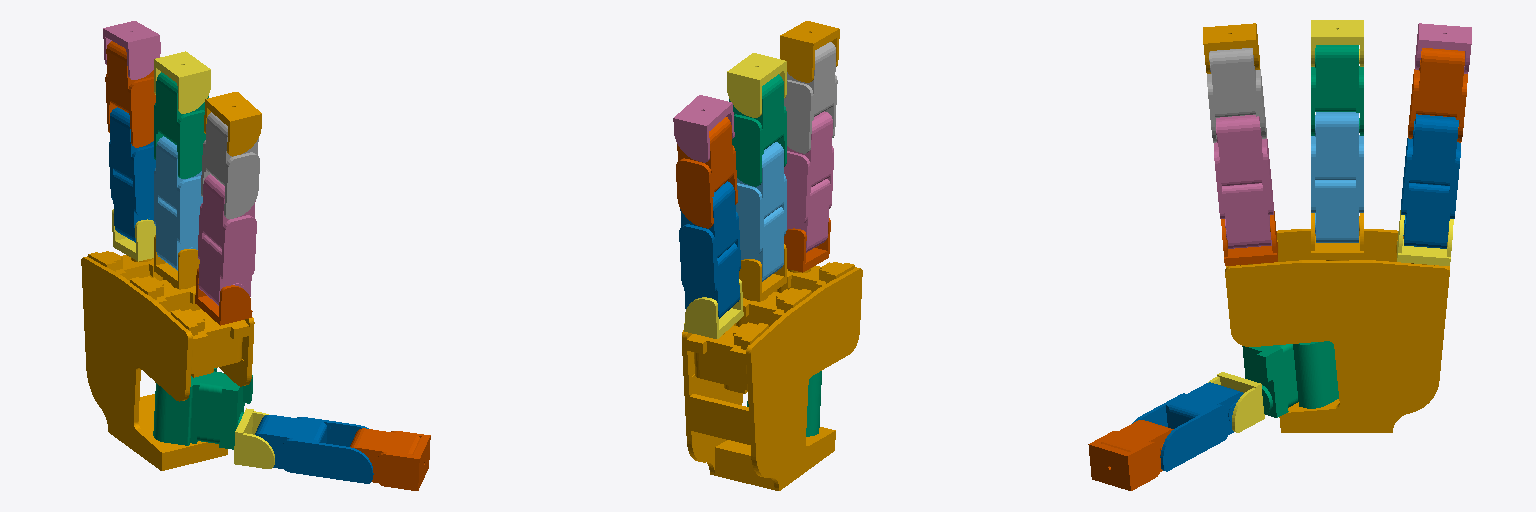
robot.urdf — allegro_left:
<?xml version="1.0" encoding="utf-8"?>
<robot name="allegro_left">
  <link name="base_link">
    <inertial>
      <mass value="0.4154"/>
      <origin rpy="0 0 0" xyz="0 0 0"/>
      <inertia ixx="1e-4" ixy="0" ixz="0" iyy="1e-4" iyz="0" izz="1e-4"/>
    </inertial>
    <visual>
      <geometry>
        <mesh filename="meshes/visual/base_link_left.obj"/>
      </geometry>
      <origin rpy="-1.570795 0 0" xyz="0 0 0 "/>
    </visual>
    <collision>
      <origin rpy="0 0 0" xyz="-0.009 0.0 -0.023"/>
      <geometry>
        <box size="0.0414 0.112 0.0448"/>
      </geometry>
    </collision>
    <collision>
      <origin rpy="0 0 0" xyz="-0.009 0.0253 -0.0667"/>
      <geometry>
        <box size="0.0414 0.0538 0.0428"/>
      </geometry>
    </collision>
    <collision>
      <origin rpy="0 0 0" xyz="-0.009300 0.00557 -0.08874"/>
      <geometry>
        <box size="0.0414 0.0720 0.013"/>
      </geometry>
    </collision>
  </link> <!--  virtual link-->
  <link name="palm"/>
  <joint name="palm_joint" type="fixed">
    <parent link="base_link"/>
    <child link="palm"/>
    <origin rpy="0.00000 -0.00000 0.00000" xyz="0 0 -0.065"/>
  </joint> <!--  virtual link-->
  <link name="wrist"/>
  <joint name="wrist_joint" type="fixed">
    <origin rpy="0 0 0" xyz="0 0 -0.03"/>
    <parent link="palm"/>
    <child link="wrist"/>
  </joint>
  <link name="link_0.0">
    <visual>
      <geometry>
        <mesh filename="meshes/visual/link_0.0.obj"/>
      </geometry>
    </visual>
    <collision>
      <geometry>
        <box size="0.0196 0.0275 0.0164"/>
      </geometry>
      <origin rpy="0 0 0" xyz="0 0 0.0082"/>
    </collision>
    <inertial>
      <mass value="0.0119"/>
      <origin xyz="0 0 0" rpy="0 0 0"/>
      <inertia ixx="1.01666658333e-06" ixy="0.0" ixz="0.0" iyy="6.47677333333e-07" iyz="0.0" izz="1.01666658333e-06"/>
    </inertial>
  </link>
  <joint name="joint_0.0" type="revolute">
    <axis xyz="0 0 1"/>
    <limit effort="10" lower="-0.47" upper="0.47" velocity="3.14"/>
    <parent link="base_link"/>
    <child link="link_0.0"/>
    <origin rpy="-0.08726646255 0 0" xyz="0 0.0435 -0.001542"/>
  </joint>
  <link name="link_1.0">
    <inertial>
      <mass value="0.065"/>
      <origin xyz="0 0 0" rpy="0 0 0"/>
      <inertia ixx="7.95654166667e-05" ixy="1.7199e-05" ixz="8.75875e-06" iyy="2.47088833333e-05" iyz="2.413125e-05" izz="7.95654166667e-05"/>
    </inertial>
    <visual>
      <geometry>
        <mesh filename="meshes/visual/link_1.0.obj"/>
      </geometry>
    </visual>
    <collision>
      <geometry>
        <box size="0.0196 0.0275 0.054"/>
      </geometry>
      <origin rpy="0 0 0" xyz="0 0 0.027"/>
    </collision>
  </link>
  <joint name="joint_1.0" type="revolute">
    <limit effort="10" lower="-0.196" upper="1.61" velocity="3.14"/>
    <axis xyz="0 1 0"/>
    <parent link="link_0.0"/>
    <child link="link_1.0"/>
    <origin xyz="0 0 0.0164"/>
  </joint>
  <link name="link_2.0">
    <inertial>
      <mass value="0.0355"/>
      <origin xyz="0 0 0" rpy="0 0 0"/>
      <inertia ixx="2.63979183333e-05" ixy="6.67968e-06" ixz="4.783625e-06" iyy="1.34948516667e-05" iyz="9.372e-06" izz="2.63979183333e-05"/>
    </inertial>
    <visual>
      <geometry>
        <mesh filename="meshes/visual/link_2.0.obj"/>
      </geometry>
    </visual>
    <collision>
      <geometry>
        <box size="0.0196 0.0275 0.0384"/>
      </geometry>
      <origin rpy="0 0 0" xyz="0 0 0.0192"/>
    </collision>
  </link>
  <joint name="joint_2.0" type="revolute">
    <axis xyz="0 1 0"/>
    <limit effort="10" lower="-0.174" upper="1.709" velocity="3.14"/>
    <parent link="link_1.0"/>
    <child link="link_2.0"/>
    <origin xyz="0 0 0.054"/>
  </joint>
  <link name="link_3.0">
    <visual>
      <geometry>
        <mesh filename="meshes/visual/link_3.0.obj"/>
      </geometry>
    </visual>
    <collision>
      <geometry>
        <box size="0.0196 0.0269 0.022"/>
      </geometry>
      <origin rpy="0 0 0" xyz="0 0 0.0047"/>
    </collision>
    <inertial>
      <origin rpy="0 0 0" xyz="0 0 0.01335"/>
      <mass value="0.02"/>
      <inertia ixx="1e-5" ixy="0.0" ixz="0.0" iyy="2e-5" iyz="0.0" izz="2e-5"/>
    </inertial>
  </link>
  <joint name="joint_3.0" type="revolute">
    <axis xyz="0 1 0"/>
    <limit effort="10" lower="-0.227" upper="1.618" velocity="3.14"/>
    <parent link="link_2.0"/>
    <child link="link_3.0"/>
    <origin xyz="0 0 0.0384"/>
  </joint>
  <link name="link_3.0_tip">
    <inertial>
      <mass value="0.0168"/>
      <origin xyz="0 0 0" rpy="0 0 0"/>
      <inertia ixx="9.68e-07" ixy="0" ixz="0" iyy="9.68e-07" iyz="0" izz="9.68e-07"/>
    </inertial>
    <visual>
      <geometry>
        <mesh filename="meshes/visual/link_tip.obj"/>
      </geometry>
    </visual>
    <collision>
      <geometry>
        <mesh filename="meshes/collision/link_tip.obj"/>
      </geometry>
    </collision>
  </link>
  <joint name="joint_3.0_tip" type="fixed">
    <parent link="link_3.0"/>
    <child link="link_3.0_tip"/>
    <origin rpy="0 0 0" xyz="0 0 0.0267"/>
  </joint>
  <link name="link_4.0">
    <inertial>
      <mass value="0.005"/>
      <origin xyz="0 0 0"/>
      <inertia ixx="5.1458e-05" iyy="5.1458e-05" izz="6.125e-05" ixy="0" ixz="0" iyz="0"/>
    </inertial>
    <visual>
      <geometry>
        <mesh filename="meshes/visual/link_0.0.obj"/>
      </geometry>
    </visual>
    <collision>
      <geometry>
        <box size="0.0196 0.0275 0.0164"/>
      </geometry>
      <origin rpy="0 0 0" xyz="0 0 0.0082"/>
    </collision>
  </link>
  <joint name="joint_4.0" type="revolute">
    <axis xyz="0 0 1"/>
    <limit effort="10" lower="-0.47" upper="0.47" velocity="3.14"/>
    <parent link="base_link"/>
    <child link="link_4.0"/>
    <origin rpy="0.0 0 0" xyz="0 0 0.0007"/>
  </joint>
  <link name="link_5.0">
    <inertial>
      <mass value="0.065"/>
      <origin xyz="0 0 0" rpy="0 0 0"/>
      <inertia ixx="7.95654166667e-05" ixy="1.7199e-05" ixz="8.75875e-06" iyy="2.47088833333e-05" iyz="2.413125e-05" izz="7.95654166667e-05"/>
    </inertial>
    <visual>
      <geometry>
        <mesh filename="meshes/visual/link_1.0.obj"/>
      </geometry>
    </visual>
    <collision>
      <geometry>
        <box size="0.0196 0.0275 0.054"/>
      </geometry>
      <origin rpy="0 0 0" xyz="0 0 0.027"/>
    </collision>
  </link>
  <joint name="joint_5.0" type="revolute">
    <limit effort="10" lower="-0.196" upper="1.61" velocity="3.14"/>
    <axis xyz="0 1 0"/>
    <parent link="link_4.0"/>
    <child link="link_5.0"/>
    <origin xyz="0 0 0.0164"/>
  </joint>
  <link name="link_6.0">
    <inertial>
      <mass value="0.0355"/>
      <origin xyz="0 0 0" rpy="0 0 0"/>
      <inertia ixx="2.63979183333e-05" ixy="6.67968e-06" ixz="4.783625e-06" iyy="1.34948516667e-05" iyz="9.372e-06" izz="2.63979183333e-05"/>
    </inertial>
    <visual>
      <geometry>
        <mesh filename="meshes/visual/link_2.0.obj"/>
      </geometry>
    </visual>
    <collision>
      <geometry>
        <box size="0.0196 0.0275 0.0384"/>
      </geometry>
      <origin rpy="0 0 0" xyz="0 0 0.0192"/>
    </collision>
  </link>
  <joint name="joint_6.0" type="revolute">
    <axis xyz="0 1 0"/>
    <limit effort="10" lower="-0.174" upper="1.709" velocity="3.14"/>
    <parent link="link_5.0"/>
    <child link="link_6.0"/>
    <origin xyz="0 0 0.054"/>
  </joint>
  <link name="link_7.0">
    <inertial>
      <mass value="0.0388"/>
      <origin xyz="0 0 0" rpy="0 0 0"/>
      <inertia ixx="3.29223173333e-05" ixy="8.042076e-06" ixz="5.2283e-06" iyy="1.47493026667e-5" iyz="1.1283525e-5" izz="3.29223173333e-05"/>
    </inertial>
    <visual>
      <geometry>
        <mesh filename="meshes/visual/link_3.0.obj"/>
      </geometry>
    </visual>
    <collision>
      <geometry>
        <box size="0.0196 0.0269 0.022"/>
      </geometry>
      <origin rpy="0 0 0" xyz="0 0 0.0047"/>
    </collision>
  </link>
  <joint name="joint_7.0" type="revolute">
    <axis xyz="0 1 0"/>
    <limit effort="10" lower="-0.227" upper="1.618" velocity="3.14"/>
    <parent link="link_6.0"/>
    <child link="link_7.0"/>
    <origin xyz="0 0 0.0384"/>
  </joint>
  <link name="link_7.0_tip">
    <inertial>
      <mass value="0.0096"/>
      <origin xyz="0 0 0" rpy="0 0 0"/>
      <inertia ixx="4.701248e-06" ixy="1.255968e-06" ixz="1.2936e-06" iyy="3.649312e-06" iyz="1.7622e-06" izz="4.701248e-06"/>
    </inertial>
    <visual>
      <geometry>
        <mesh filename="meshes/visual/link_tip.obj"/>
      </geometry>
    </visual>
    <collision>
      <geometry>
        <mesh filename="meshes/collision/link_tip.obj"/>
      </geometry>
    </collision>
  </link>
  <joint name="joint_7.0_tip" type="fixed">
    <parent link="link_7.0"/>
    <child link="link_7.0_tip"/>
    <origin rpy="0 0 0" xyz="0 0 0.0267"/>
  </joint>
  <link name="link_8.0">
    <inertial>
      <mass value="0.005"/>
      <origin xyz="0 0 0"/>
      <inertia ixx="5.1458e-05" iyy="5.1458e-05" izz="6.125e-05" ixy="0" ixz="0" iyz="0"/>
    </inertial>
    <visual>
      <geometry>
        <mesh filename="meshes/visual/link_0.0.obj"/>
      </geometry>
    </visual>
    <collision>
      <geometry>
        <box size="0.0196 0.0275 0.0164"/>
      </geometry>
      <origin rpy="0 0 0" xyz="0 0 0.0082"/>
    </collision>
  </link>
  <joint name="joint_8.0" type="revolute">
    <axis xyz="0 0 1"/>
    <limit effort="10" lower="-0.47" upper="0.47" velocity="3.14"/>
    <parent link="base_link"/>
    <child link="link_8.0"/>
    <origin rpy="0.08726646255 0 0" xyz="0 -0.0435 -0.001542"/>
  </joint>
  <link name="link_9.0">
    <inertial>
      <mass value="0.065"/>
      <origin xyz="0 0 0" rpy="0 0 0"/>
      <inertia ixx="7.95654166667e-05" ixy="1.7199e-05" ixz="8.75875e-06" iyy="2.47088833333e-05" iyz="2.413125e-05" izz="7.95654166667e-05"/>
    </inertial>
    <visual>
      <geometry>
        <mesh filename="meshes/visual/link_1.0.obj"/>
      </geometry>
    </visual>
    <collision>
      <geometry>
        <box size="0.0196 0.0275 0.054"/>
      </geometry>
      <origin rpy="0 0 0" xyz="0 0 0.027"/>
    </collision>
  </link>
  <joint name="joint_9.0" type="revolute">
    <limit effort="10" lower="-0.196" upper="1.61" velocity="3.14"/>
    <axis xyz="0 1 0"/>
    <parent link="link_8.0"/>
    <child link="link_9.0"/>
    <origin xyz="0 0 0.0164"/>
  </joint>
  <link name="link_10.0">
    <inertial>
      <mass value="0.0355"/>
      <origin xyz="0 0 0" rpy="0 0 0"/>
      <inertia ixx="2.63979183333e-05" ixy="6.67968e-06" ixz="4.783625e-06" iyy="1.34948516667e-05" iyz="9.372e-06" izz="2.63979183333e-05"/>
    </inertial>
    <visual>
      <geometry>
        <mesh filename="meshes/visual/link_2.0.obj"/>
      </geometry>
    </visual>
    <collision>
      <geometry>
        <box size="0.0196 0.0275 0.0384"/>
      </geometry>
      <origin rpy="0 0 0" xyz="0 0 0.0192"/>
    </collision>
  </link>
  <joint name="joint_10.0" type="revolute">
    <axis xyz="0 1 0"/>
    <limit effort="10" lower="-0.174" upper="1.709" velocity="3.14"/>
    <parent link="link_9.0"/>
    <child link="link_10.0"/>
    <origin xyz="0 0 0.054"/>
  </joint>
  <link name="link_11.0">
    <inertial>
      <mass value="0.0096"/>
      <origin xyz="0 0 0" rpy="0 0 0"/>
      <inertia ixx="4.701248e-06" ixy="1.255968e-06" ixz="1.2936e-06" iyy="3.649312e-06" iyz="1.7622e-06" izz="4.701248e-06"/>
    </inertial>
    <visual>
      <geometry>
        <mesh filename="meshes/visual/link_3.0.obj"/>
      </geometry>
    </visual>
    <collision>
      <geometry>
        <box size="0.0196 0.0269 0.022"/>
      </geometry>
      <origin rpy="0 0 0" xyz="0 0 0.0047"/>
    </collision>
  </link>
  <joint name="joint_11.0" type="revolute">
    <axis xyz="0 1 0"/>
    <limit effort="10" lower="-0.227" upper="1.618" velocity="3.14"/>
    <parent link="link_10.0"/>
    <child link="link_11.0"/>
    <origin xyz="0 0 0.0384"/>
  </joint>
  <link name="link_11.0_tip">
    <inertial>
      <mass value="0.0168"/>
      <origin xyz="0 0 0" rpy="0 0 0"/>
      <inertia ixx="9.68e-07" ixy="0" ixz="0" iyy="9.68e-07" iyz="0" izz="9.68e-07"/>
    </inertial>
    <visual>
      <geometry>
        <mesh filename="meshes/visual/link_tip.obj"/>
      </geometry>
    </visual>
    <collision>
      <geometry>
        <mesh filename="meshes/collision/link_tip.obj"/>
      </geometry>
    </collision>
  </link>
  <joint name="joint_11.0_tip" type="fixed">
    <parent link="link_11.0"/>
    <child link="link_11.0_tip"/>
    <origin rpy="0 0 0" xyz="0 0 0.0267"/>
  </joint> <!-- THUMB -->
  <link name="link_12.0">
    <inertial>
      <mass value="0.0176"/>
      <origin xyz="0 0 0" rpy="0 0 0"/>
      <inertia ixx="1.89273333333e-5" ixy="7.16716e-06" ixz="5.35568e-06" iyy="1.43008213333e-05" iyz="6.8068e-06" izz="1.89273333333e-05"/>
    </inertial>
    <visual>
      <geometry>
        <mesh filename="meshes/visual/link_12.0_left.obj"/>
      </geometry>
      <origin rpy="3.14159 0 0" xyz="0 0 0"/>
    </visual>
    <collision>
      <geometry>
        <box size="0.0358 0.034 0.0455"/>
      </geometry>
      <origin rpy="0 0 0" xyz="-0.0179 0.009 0.0145"/>
    </collision>
  </link>
  <joint name="joint_12.0" type="revolute">
    <axis xyz="1 0 0"/>
    <limit effort="10" lower="0.263" upper="1.396" velocity="3.14"/>
    <parent link="base_link"/>
    <child link="link_12.0"/>
    <origin xyz="-0.0182 -0.019333 -0.045987" rpy="0 -1.65806278845 1.5707963259"/>
  </joint>
  <link name="link_13.0">
    <inertial>
      <mass value="0.0119"/>
      <origin xyz="0 0 0" rpy="0 0 0"/>
      <inertia ixx="4.24250866667e-06" ixy="1.032087e-06" ixz="1.603525e-06" iyy="4.52362633333e-06" iyz="1.44808125e-06" izz="4.24250866667e-06"/>
    </inertial>
    <visual>
      <geometry>
        <mesh filename="meshes/visual/link_13.0.obj"/>
      </geometry>
    </visual>
    <collision>
      <geometry>
        <box size="0.0196 0.0275 0.0177"/>
      </geometry>
      <origin rpy="0 0 0" xyz="0 0 0.00885"/>
    </collision>
  </link>
  <joint name="joint_13.0" type="revolute">
    <axis xyz="0 0 -1"/>
    <limit effort="10" lower="-0.105" upper="1.163" velocity="3.14"/>
    <parent link="link_12.0"/>
    <child link="link_13.0"/>
    <origin xyz="-0.027 0.005 0.0399"/>
  </joint>
  <link name="link_14.0">
    <inertial>
      <mass value="0.038"/>
      <origin xyz="0 0 0" rpy="0 0 0"/>
      <inertia ixx="4.30439933333e-05" ixy="9.57068e-06" ixz="5.1205e-06" iyy="1.44451933333e-05" iyz="1.342825e-05" izz="4.30439933333e-05"/>
    </inertial>
    <visual>
      <geometry>
        <mesh filename="meshes/visual/link_14.0.obj"/>
      </geometry>
    </visual>
    <collision>
      <geometry>
        <box size="0.0196 0.0275 0.0514"/>
      </geometry>
      <origin rpy="0 0 0" xyz="0 0 0.0257"/>
    </collision>
  </link>
  <joint name="joint_14.0" type="revolute">
    <axis xyz="0 1 0"/>
    <limit effort="10" lower="-0.189" upper="1.644" velocity="3.14"/>
    <parent link="link_13.0"/>
    <child link="link_14.0"/>
    <origin xyz="0 0 0.0177"/>
  </joint>
  <link name="link_15.0">
    <inertial>
      <mass value="0.0388"/>
      <origin xyz="0 0 0" rpy="0 0 0"/>
      <inertia ixx="3.29223173333e-05" ixy="8.042076e-06" ixz="5.2283e-06" iyy="1.47493026667e-5" iyz="1.1283525e-5" izz="3.29223173333e-05"/>
    </inertial>
    <visual>
      <geometry>
        <mesh filename="meshes/visual/link_15.0.obj"/>
      </geometry>
    </visual>
    <collision>
      <geometry>
        <box size="0.0196 0.0269 0.04"/>
      </geometry>
      <origin rpy="0 0 0" xyz="0 0 0.01125"/>
    </collision>
  </link>
  <joint name="joint_15.0" type="revolute">
    <axis xyz="0 1 0"/>
    <limit effort="10" lower="-0.162" upper="1.719" velocity="3.14"/>
    <parent link="link_14.0"/>
    <child link="link_15.0"/>
    <origin xyz="0 0 0.0514"/>
  </joint>
  <link name="link_15.0_tip">
    <inertial>
      <mass value="0.0168"/>
      <origin xyz="0 0 0" rpy="0 0 0"/>
      <inertia ixx="9.68e-07" ixy="0" ixz="0" iyy="9.68e-07" iyz="0" izz="9.68e-07"/>
    </inertial>
    <visual>
      <geometry>
        <mesh filename="meshes/visual/link_tip.obj"/>
      </geometry>
    </visual>
    <collision>
      <geometry>
        <mesh filename="meshes/collision/link_tip.obj"/>
      </geometry>
    </collision>
  </link>
  <joint name="joint_15.0_tip" type="fixed">
    <parent link="link_15.0"/>
    <child link="link_15.0_tip"/>
    <origin rpy="0 0 0" xyz="0 0 0.0423"/>
  </joint>
</robot>

--- Facts derived from the render (not from the file) ---
Views: 3 orthographic renders of the robot side by side, from view 1: azimuth 30°, elevation 25°; view 2: azimuth 150°, elevation 25°; view 3: azimuth 270°, elevation 25°.
Model allegro_left with 23 links and 22 joints (16 revolute, 6 fixed), rooted at base_link, posed joints at zero except 1 at the middle of their limits (joint_12.0 = 0.8295).
Links seen in each view (by area): view 1: base_link, link_14.0, link_12.0, link_9.0, link_5.0, link_1.0, link_15.0, link_10.0, link_6.0, link_2.0, link_11.0, link_7.0 (+5 smaller); view 2: base_link, link_1.0, link_5.0, link_9.0, link_2.0, link_6.0, link_10.0, link_3.0, link_7.0, link_11.0, link_0.0, link_4.0 (+2 smaller); view 3: base_link, link_9.0, link_1.0, link_5.0, link_12.0, link_14.0, link_15.0, link_10.0, link_2.0, link_6.0, link_13.0, link_3.0 (+5 smaller).
Boxes of the visible links, x1,y1,x2,y2 form: base_link: (81, 251, 254, 470); link_14.0: (255, 415, 373, 483); link_12.0: (153, 368, 252, 449); link_9.0: (198, 174, 256, 305); link_5.0: (154, 136, 202, 270); link_1.0: (109, 107, 155, 242); link_15.0: (350, 428, 430, 490); link_10.0: (201, 112, 259, 219); link_6.0: (154, 72, 208, 178); link_2.0: (105, 41, 155, 147); link_11.0: (204, 92, 261, 156); link_7.0: (154, 51, 210, 113); base_link: (682, 262, 862, 490); link_1.0: (679, 181, 740, 318); link_5.0: (736, 142, 786, 281); link_9.0: (784, 111, 833, 252); link_2.0: (676, 117, 737, 228); link_6.0: (729, 74, 786, 186); link_10.0: (784, 42, 837, 153); link_3.0: (673, 95, 734, 162); link_7.0: (727, 53, 786, 117); link_11.0: (780, 21, 839, 82); link_0.0: (684, 279, 743, 338); link_4.0: (739, 244, 786, 301); base_link: (1225, 229, 1449, 432); link_9.0: (1214, 115, 1273, 248); link_1.0: (1401, 114, 1460, 248); link_5.0: (1311, 112, 1363, 242); link_12.0: (1242, 341, 1338, 417); link_14.0: (1132, 382, 1243, 471); link_15.0: (1088, 420, 1173, 490); link_10.0: (1207, 48, 1266, 142); link_2.0: (1408, 48, 1467, 142); link_6.0: (1311, 45, 1363, 135); link_13.0: (1208, 372, 1264, 432); link_3.0: (1415, 23, 1471, 73).
Size in the robot's own frame: 0.1205 by 0.1936 by 0.2202 metres.
17 mesh visuals loaded from 10 distinct referenced files (9 OBJ); not drawn: 4 (reference not matched to a file when rendering).